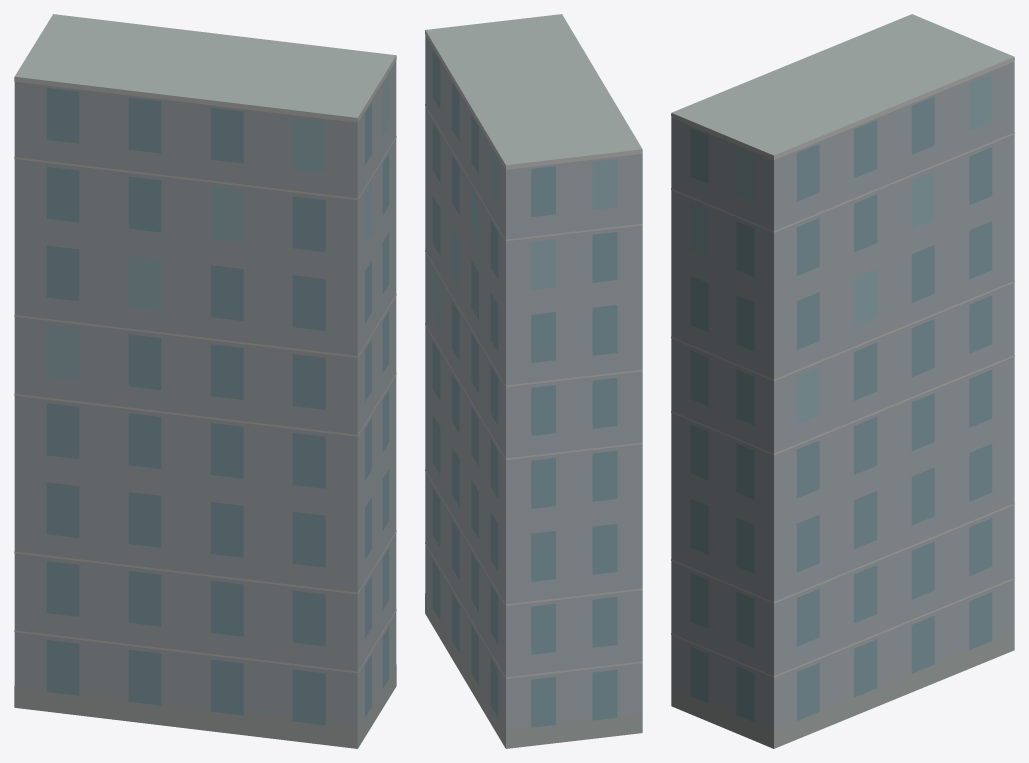
Rendered from survey-upis-32563059.glb.
3 renders of one model, left to right at view 1: azimuth 30°, elevation 25°; view 2: azimuth 150°, elevation 25°; view 3: azimuth 270°, elevation 25°, orthographic. The views are drawn at different scales.
Parts seen in each view (by area): view 1: survey-upis-32563059.tmp; view 2: survey-upis-32563059.tmp; view 3: survey-upis-32563059.tmp.
Boxes of the visible parts, left/top/right/bottom form: survey-upis-32563059.tmp: left=14, top=14, right=396, bottom=748; survey-upis-32563059.tmp: left=425, top=14, right=642, bottom=748; survey-upis-32563059.tmp: left=671, top=14, right=1014, bottom=748.
Size of the model in its own units: 15.98 by 31.2 by 16.39.
